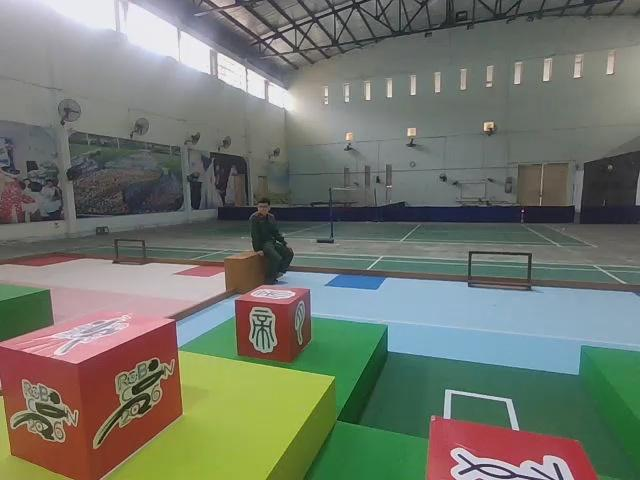R1: (1, 307, 186, 480)
R2 Fake: (236, 283, 313, 363)
R2 Real: (424, 416, 600, 480)
